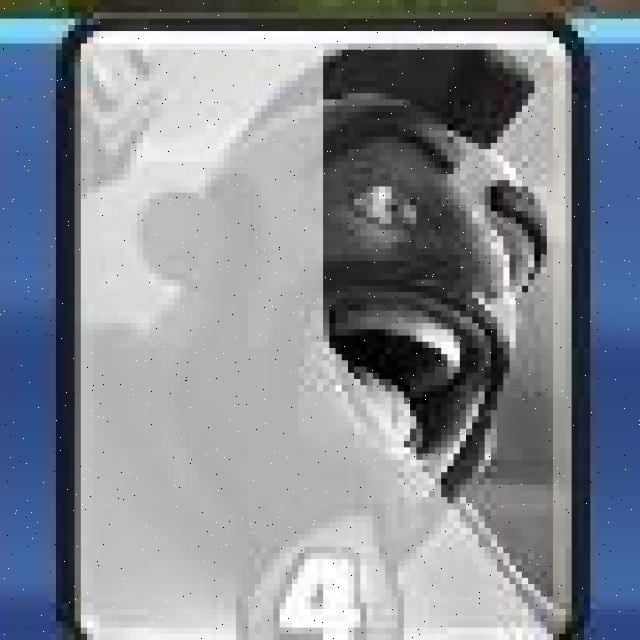Hog_Rider: (59, 17, 585, 630)
